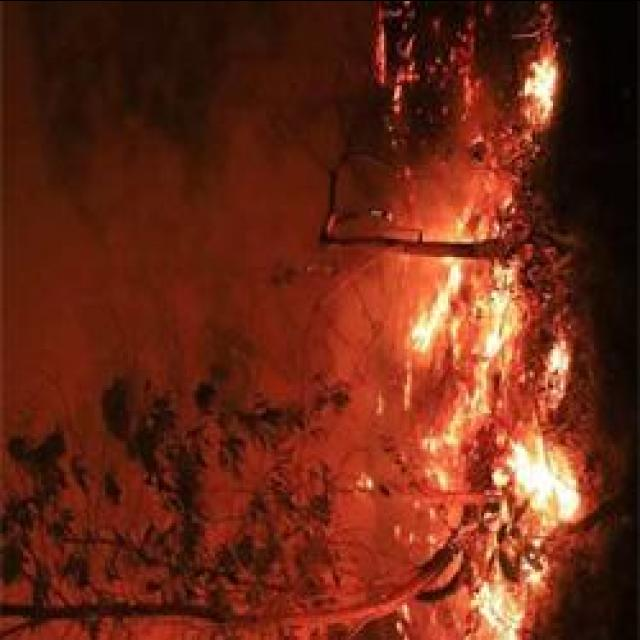fire: (487, 435, 591, 530), (395, 257, 475, 363), (466, 575, 538, 640), (520, 55, 566, 128)
smoke: (0, 15, 316, 288)
